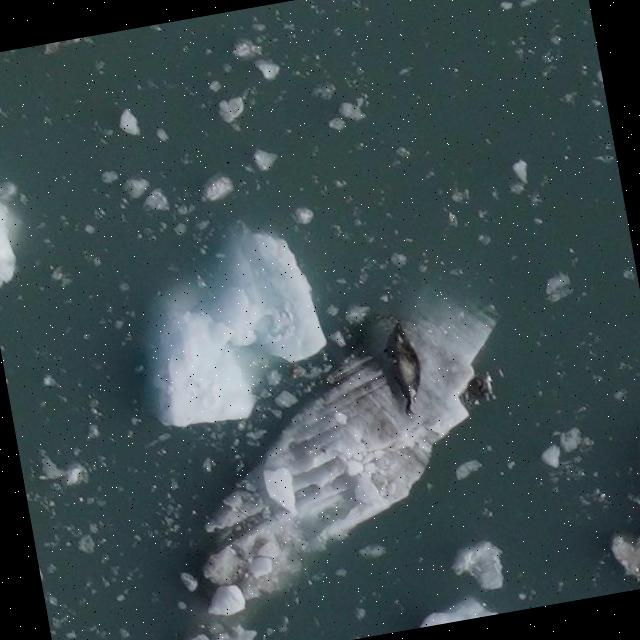seal: (377, 318, 431, 419)
